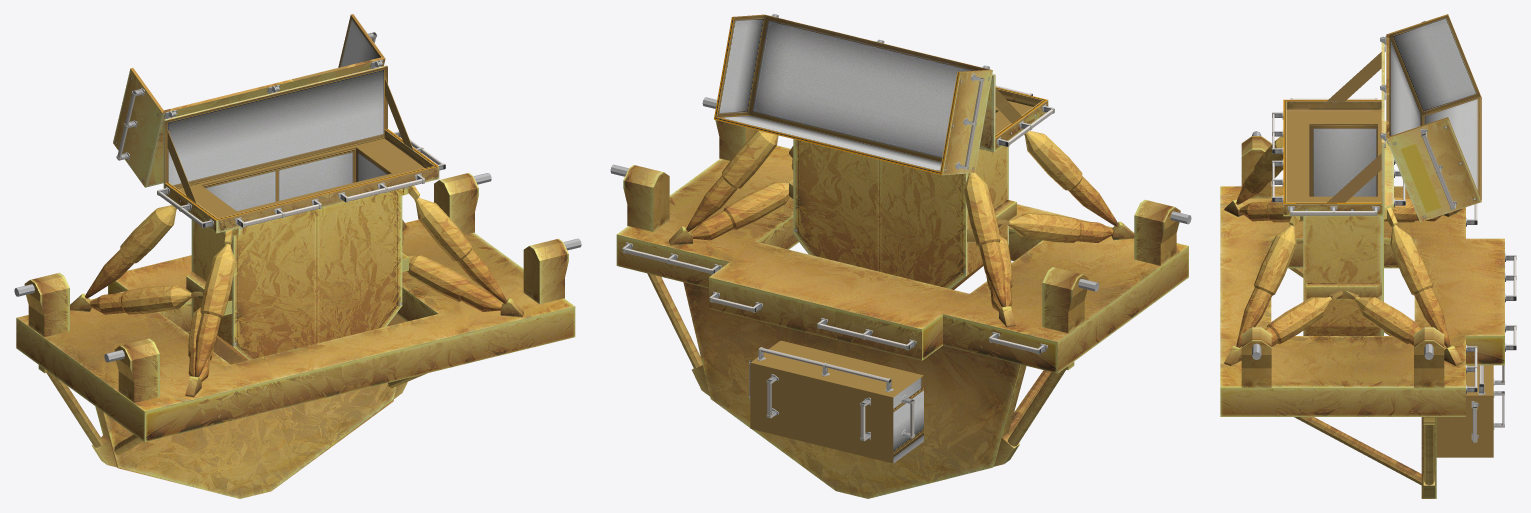
File: Super Lightweight Interchangeable.glb
3 views of the same model, side by side, from view 1: azimuth 30°, elevation 25°; view 2: azimuth 150°, elevation 25°; view 3: azimuth 270°, elevation 25° (orthographic). The views are drawn at different scales.
Visible parts, largest first — view 1: spaceshutt; view 2: spaceshutt; view 3: spaceshutt.
Part boxes in pixels (bbox=[...]): spaceshutt: bbox=[14, 14, 581, 498]; spaceshutt: bbox=[610, 14, 1191, 498]; spaceshutt: bbox=[1220, 14, 1516, 498].
Size of the model in its own units: 193 by 173 by 110.
2 materials, 2 textured.
